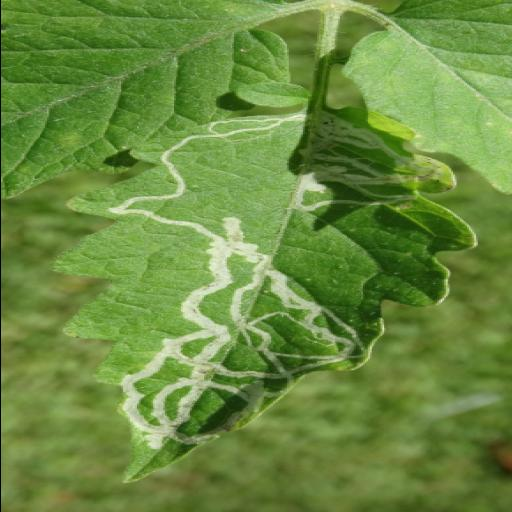disease_tomato: (50, 102, 482, 486)
